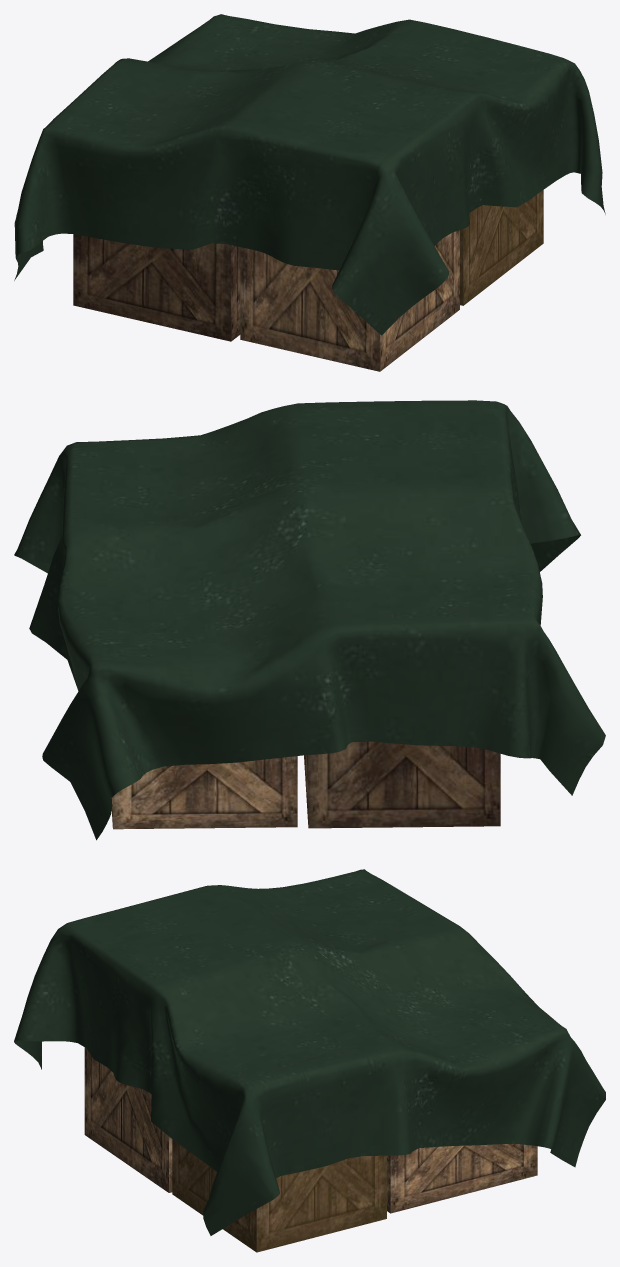
Rendered from tarp_crates.glb.
3 views of the same model, one above another, from view 1: azimuth 30°, elevation 25°; view 2: azimuth 150°, elevation 25°; view 3: azimuth 270°, elevation 25° (orthographic). The views are drawn at different scales.
Visible parts, largest first — view 1: TarpCrate4_w; view 2: TarpCrate4_w; view 3: TarpCrate4_w.
Boxes of the visible parts, <box> form: TarpCrate4_w: <box>14,14,605,371</box>; TarpCrate4_w: <box>14,400,605,840</box>; TarpCrate4_w: <box>14,869,605,1252</box>.
Size of the model in its own units: 2.64 by 1.02 by 2.58.
5 materials, 5 textured.
